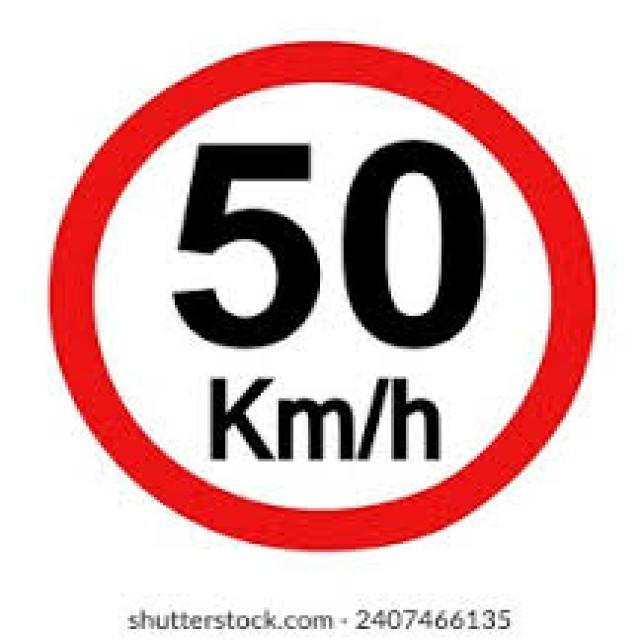Speed limit 50: (43, 37, 603, 553)
